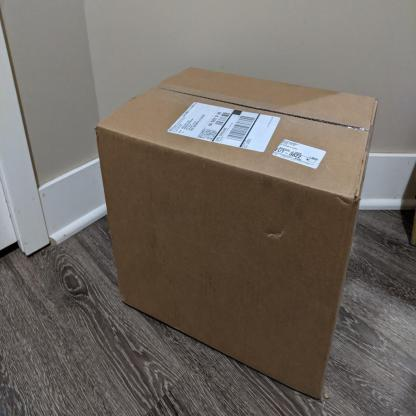package: (93, 64, 381, 402)
